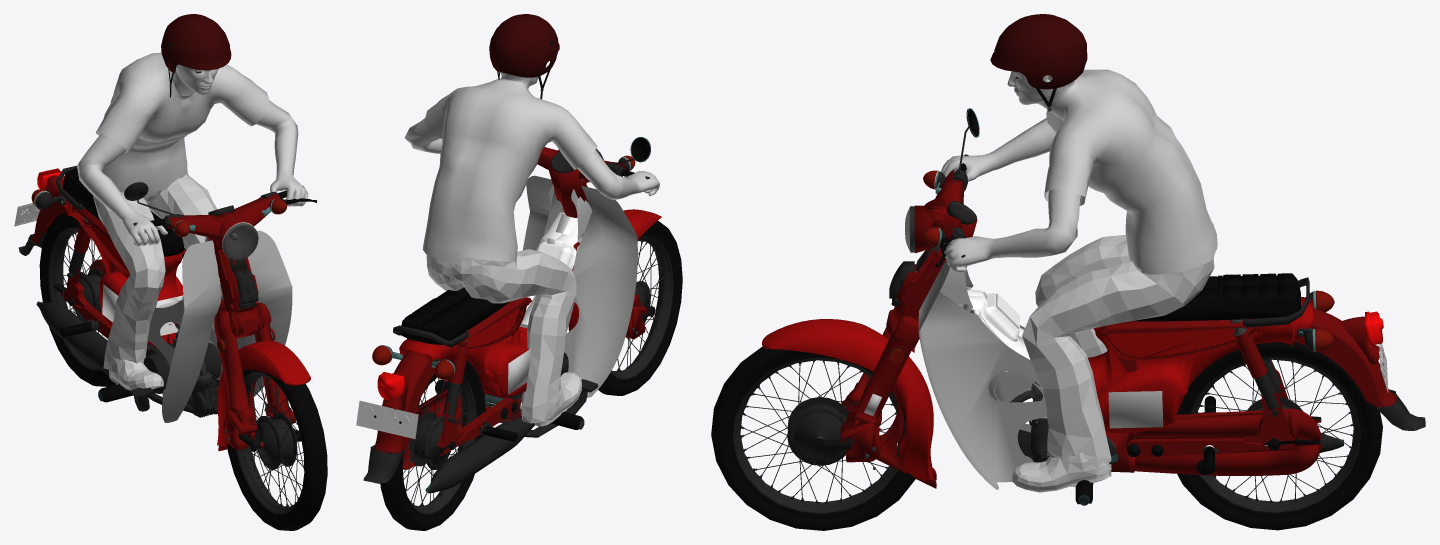
File: motopiloto.obj
The picture shows the model from 3 angles, left to right: view 1: azimuth 30°, elevation 25°; view 2: azimuth 150°, elevation 25°; view 3: azimuth 270°, elevation 25°; orthographic projection. The views are drawn at different scales.
Parts seen in each view (by area): view 1: _G-Object.013_(Loose_Mesh), _C-skpYWzgpw_(Loose_Mesh), _G-Object.010_(Loose_Mesh), G-Object.003, C-Group#5.001, _G-Object.023_(Loose_Mesh), G-Object.039, C-Group#42, G-Object.043, G-Object.015, G-Object.019, C-Group#5 (+8 smaller); view 2: _G-Object.013_(Loose_Mesh), _C-skpYWzgpw_(Loose_Mesh), _G-Object.010_(Loose_Mesh), G-Object.003, C-Group#42, G-Object.043, G-Object.015, G-Object.048, _G-Object.020_(Loose_Mesh), G-Object.019, G-Object.011, G-Object.027 (+6 smaller); view 3: _G-Object.013_(Loose_Mesh), _C-skpYWzgpw_(Loose_Mesh), _G-Object.010_(Loose_Mesh), G-Object.003, C-Group#5, G-Object.043, G-Object.019, _G-Object.023_(Loose_Mesh), G-Object.041, G-Object.012, G-Object.039, G-Object.017 (+1 smaller).
Part boxes in pixels (x1=…): _G-Object.013_(Loose_Mesh): x1=18, y1=165, x2=327, y2=530; _C-skpYWzgpw_(Loose_Mesh): x1=77, y1=52, x2=308, y2=246; _G-Object.010_(Loose_Mesh): x1=93, y1=173, x2=217, y2=369; G-Object.003: x1=161, y1=14, x2=231, y2=72; C-Group#5.001: x1=214, y1=310, x2=257, y2=450; _G-Object.023_(Loose_Mesh): x1=254, y1=412, x2=301, y2=469; G-Object.039: x1=214, y1=249, x2=262, y2=338; C-Group#42: x1=36, y1=301, x2=109, y2=375; G-Object.043: x1=236, y1=371, x2=298, y2=514; G-Object.015: x1=53, y1=282, x2=111, y2=338; G-Object.019: x1=48, y1=227, x2=100, y2=370; C-Group#5: x1=254, y1=302, x2=296, y2=424; _G-Object.013_(Loose_Mesh): x1=363, y1=137, x2=682, y2=530; _C-skpYWzgpw_(Loose_Mesh): x1=404, y1=72, x2=659, y2=262; _G-Object.010_(Loose_Mesh): x1=426, y1=249, x2=576, y2=423; G-Object.003: x1=489, y1=14, x2=559, y2=77; C-Group#42: x1=427, y1=417, x2=534, y2=493; G-Object.043: x1=610, y1=236, x2=673, y2=379; G-Object.015: x1=425, y1=397, x2=517, y2=459; G-Object.048: x1=356, y1=400, x2=418, y2=438; _G-Object.020_(Loose_Mesh): x1=410, y1=412, x2=450, y2=469; G-Object.019: x1=404, y1=376, x2=476, y2=514; G-Object.011: x1=534, y1=372, x2=582, y2=426; G-Object.027: x1=443, y1=342, x2=468, y2=422; _G-Object.013_(Loose_Mesh): x1=711, y1=108, x2=1425, y2=530; _C-skpYWzgpw_(Loose_Mesh): x1=941, y1=69, x2=1217, y2=274; _G-Object.010_(Loose_Mesh): x1=1022, y1=235, x2=1214, y2=479; G-Object.003: x1=990, y1=14, x2=1087, y2=89; C-Group#5: x1=840, y1=315, x2=918, y2=462; G-Object.043: x1=732, y1=357, x2=905, y2=513; G-Object.019: x1=1190, y1=357, x2=1361, y2=512; _G-Object.023_(Loose_Mesh): x1=787, y1=397, x2=852, y2=465; G-Object.041: x1=1126, y1=393, x2=1295, y2=456; G-Object.012: x1=1012, y1=452, x2=1109, y2=492; G-Object.039: x1=886, y1=246, x2=946, y2=352; G-Object.017: x1=1235, y1=330, x2=1278, y2=416.
Size of the model in its own units: 0.898 by 1.75 by 2.18.
